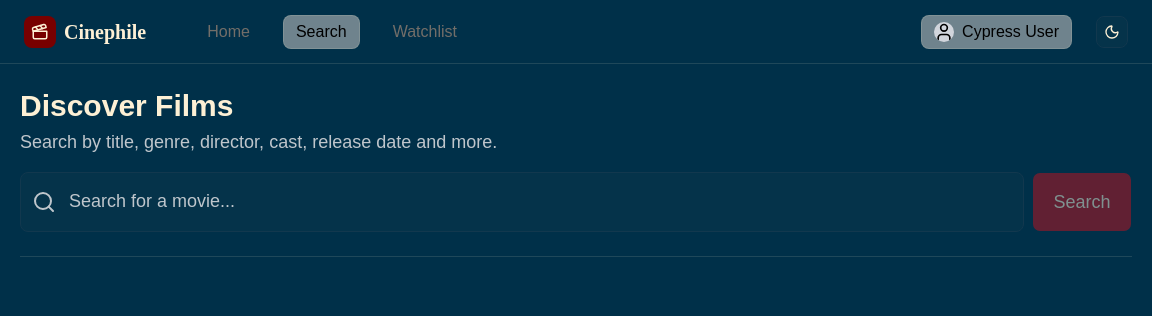
Scenario: Movie search › shows an empty state
Type "Nothing" into the field with placeholder "Search for a movie...".
click(522, 202); type("Nothing")  # box top-left (20, 172), bottom-right (1024, 232)
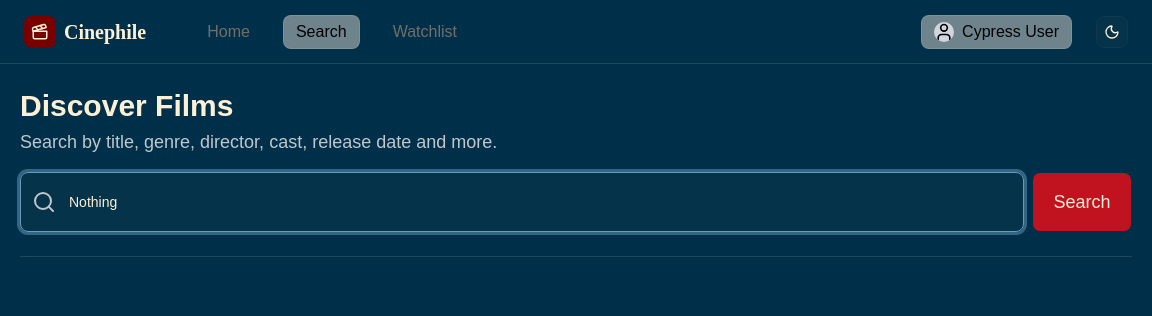
Click the button "Search".
click(1082, 202)  # box top-left (1032, 172), bottom-right (1132, 232)
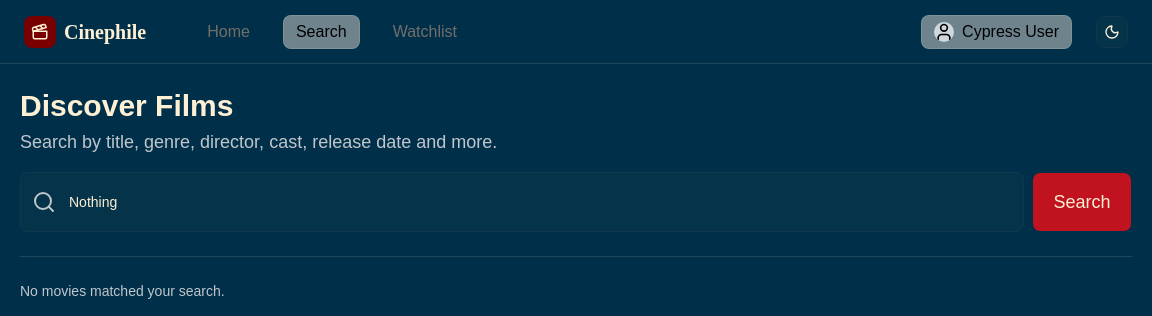
Check: the text "No movies matched your search." is shown, box top-left (20, 283), bottom-right (225, 299)
